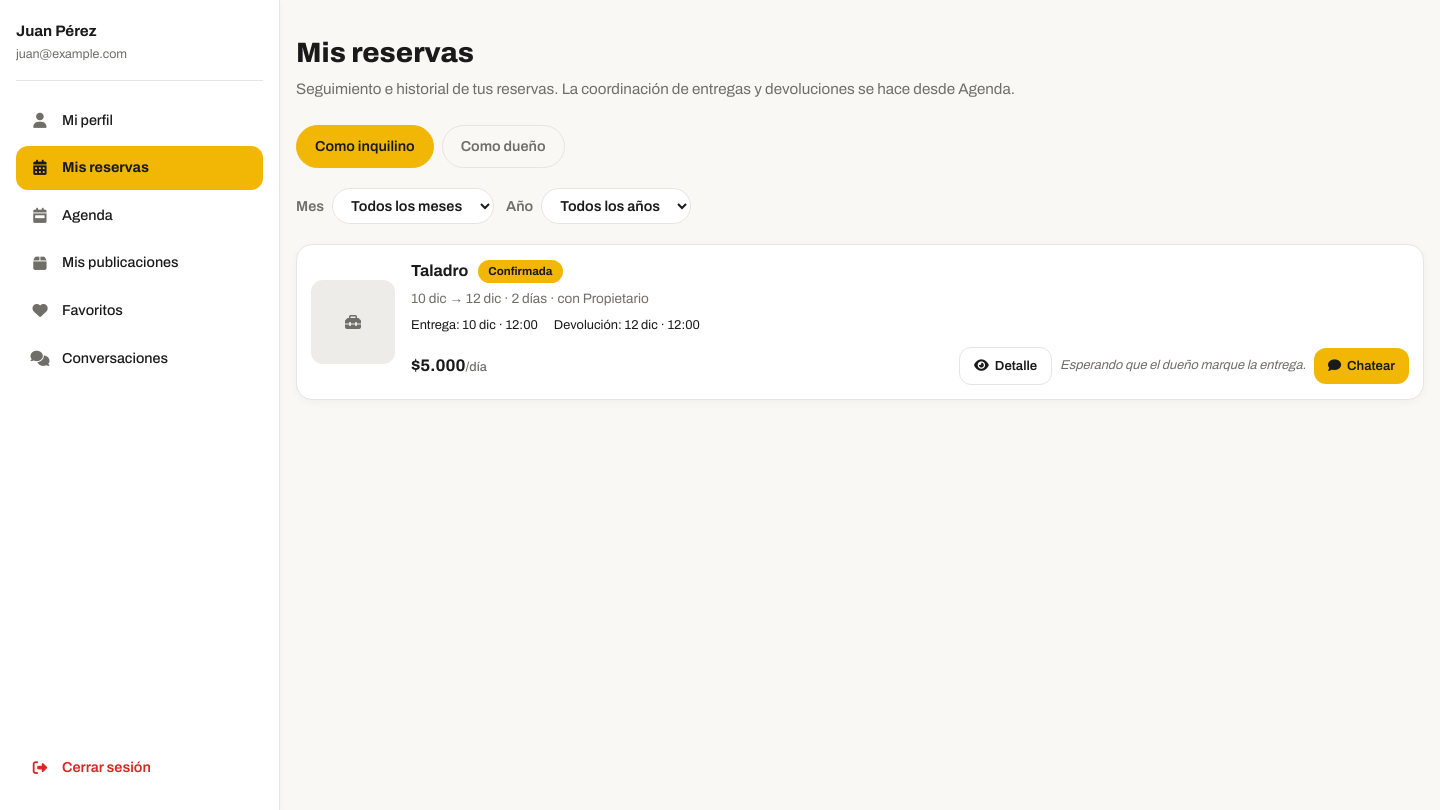
Test: Dashboard — reembolso simulado al cancelar › cancelar desde el detalle dispara los dos toasts del reembolso
What coordinates should you click on to do the following:
click the button "Detalle"
I would click on:
 (1006, 366)
Its box is x1=959 y1=347 x2=1052 y2=385.
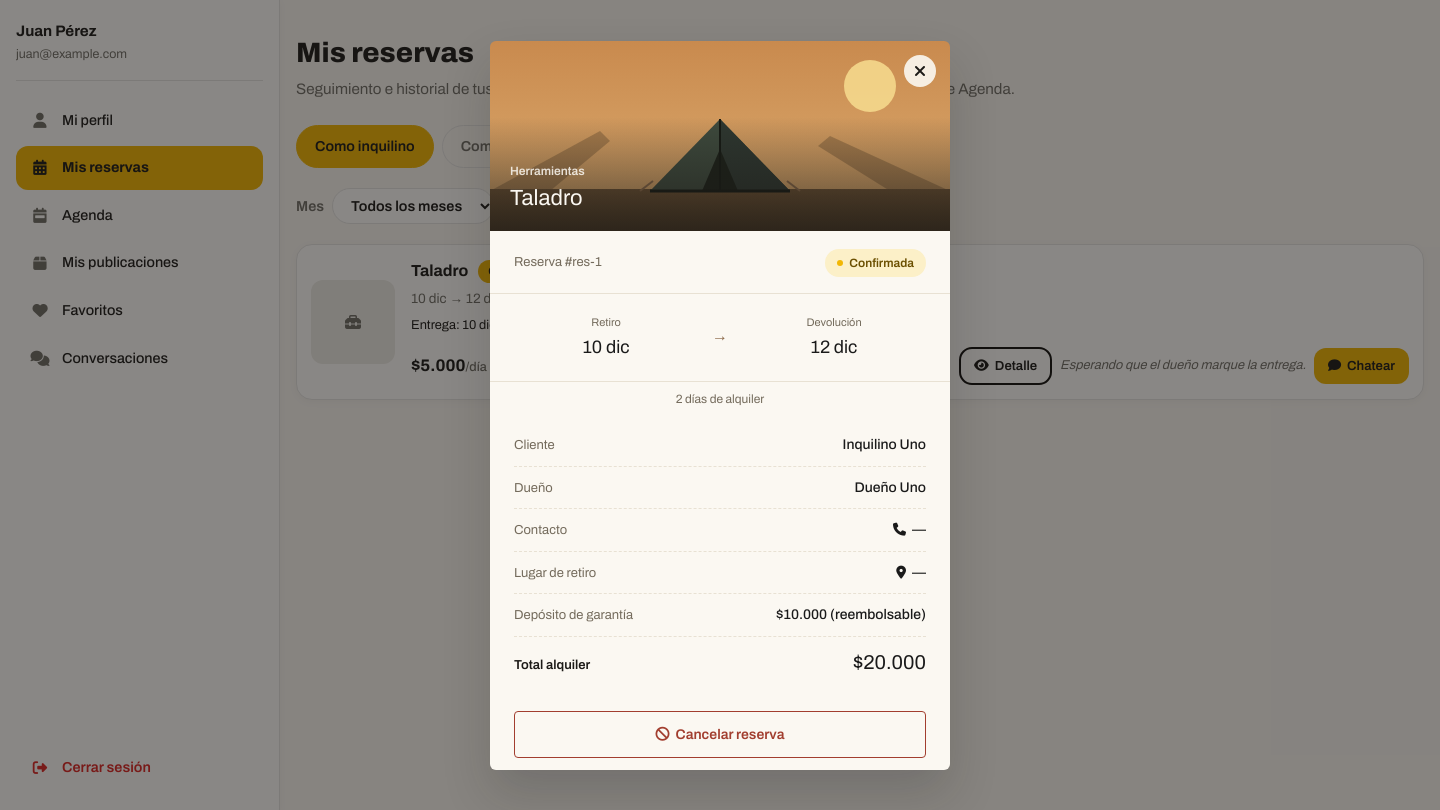
What coordinates should you click on to do the following:
click the button "Cancelar reserva"
I would click on:
 (720, 734)
Its box is x1=514 y1=710 x2=926 y2=758.
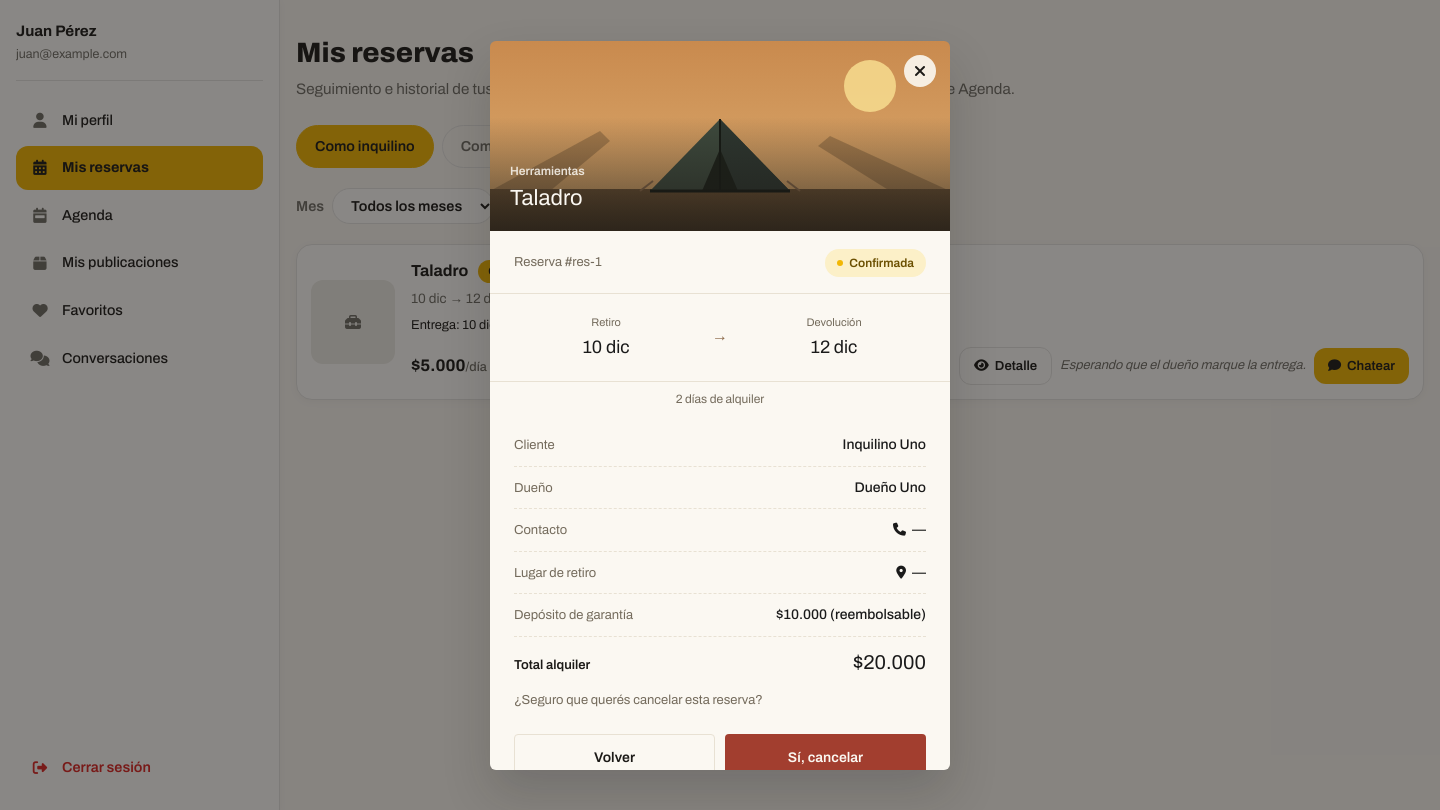
What coordinates should you click on to do the following:
click the button "Sí, cancelar"
I would click on:
 (826, 758)
Its box is x1=725 y1=734 x2=926 y2=781.
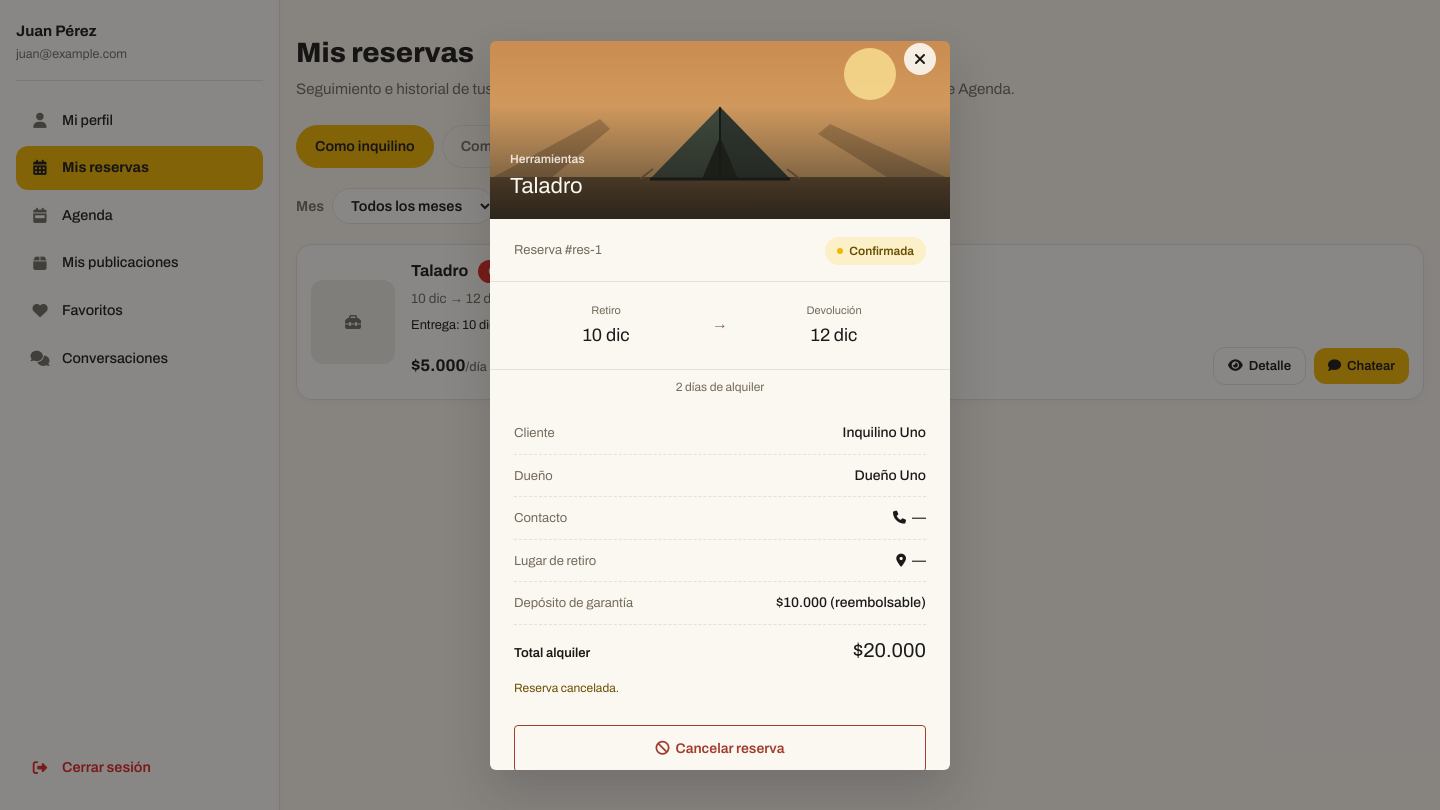
Now the text "Reserva cancelada." is shown, box x1=514 y1=680 x2=619 y2=694
Now the text "Cancelada" is shown, box x1=478 y1=260 x2=557 y2=283
